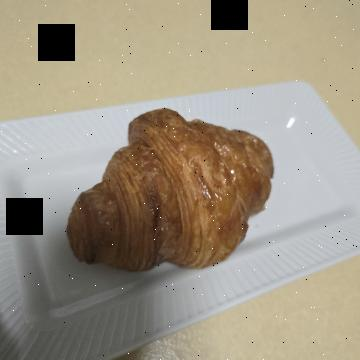croissant: (94, 68, 288, 295)
